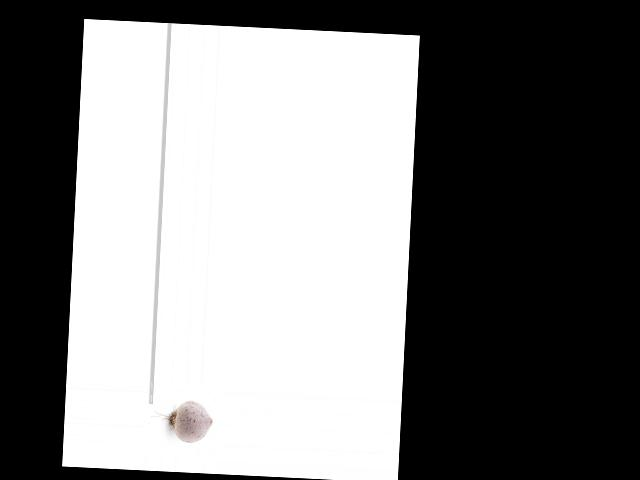beet: (149, 398, 214, 443)
